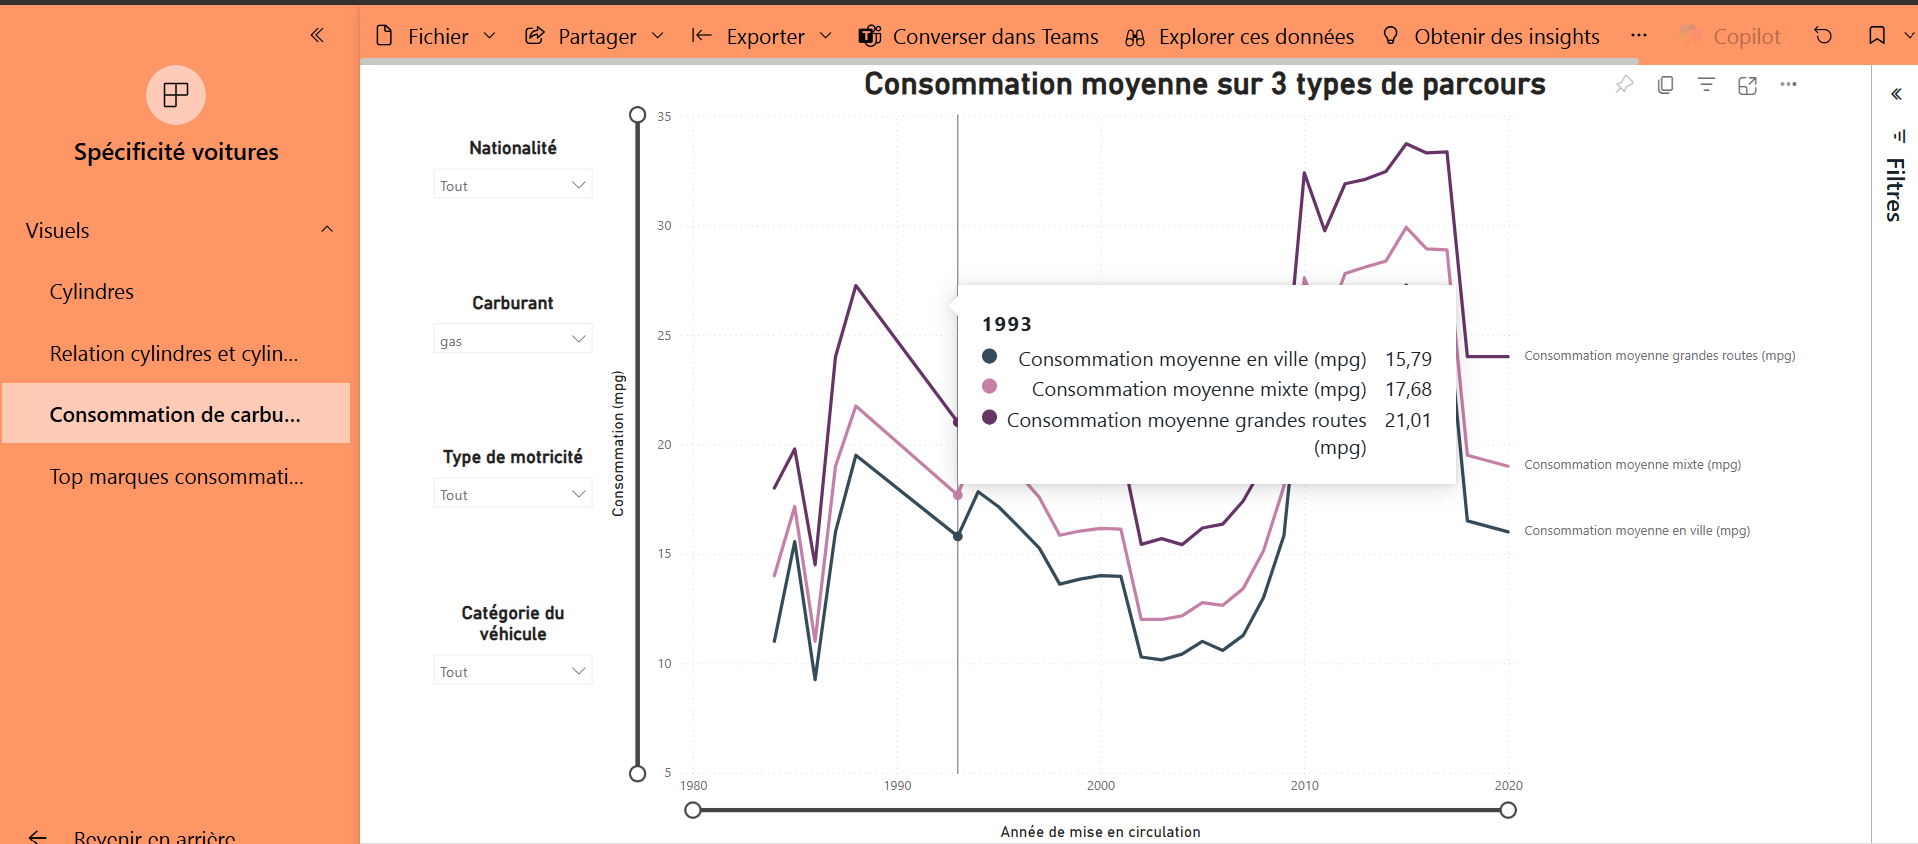

Layout of this report page (visuals, bound fields, positions):
{"tool":"powerbi","page":{"name":"Consommation de carburant","canvas":[1280,720],"ordinal":2},"visuals":[{"type":"slicer","title":"Carburant","fields":{"Values":["V_Carburant.NomCarburant"]},"box":[0,209.7,166.6,80.3],"z":0},{"type":"slicer","title":"Type de motricité","fields":{"Values":["V_Drive.TypeMotricite"]},"box":[0,352.8,166.6,80.3],"z":1000},{"type":"slicer","title":"Catégorie du véhicule","fields":{"Values":["V_Categorie.NomCategorie"]},"box":[0,495.9,166.6,80.3],"z":2000},{"type":"lineChart","title":"Consommation moyenne sur 3 types de parcours","fields":{"Y":["Mesures.conso_city_mean","Mesures.conso_combination_mean","Mesures.conso_highway_mean"],"Category":["V_AnneeMEC.AnneeMEC"]},"box":[166.6,0,1113.4,720.8],"z":3000},{"type":"slicer","title":"Nationalité","fields":{"Values":["V_Marques.Nationalité"]},"box":[0,66.6,166.6,80.3],"z":4000}]}

Visuals, with their boxes on the page's 1280x720 design canvas (x1, y1, x2, y2). These are canvas units, not pixel positions in the 1918x844 screenshot, which may show the page scaled, cropped or inside an application window:
"Carburant" slicer: bbox=[0, 210, 167, 290]
"Type de motricité" slicer: bbox=[0, 353, 167, 433]
"Catégorie du véhicule" slicer: bbox=[0, 496, 167, 576]
"Consommation moyenne sur 3 types de parcours" lineChart: bbox=[167, 0, 1280, 721]
"Nationalité" slicer: bbox=[0, 67, 167, 147]
